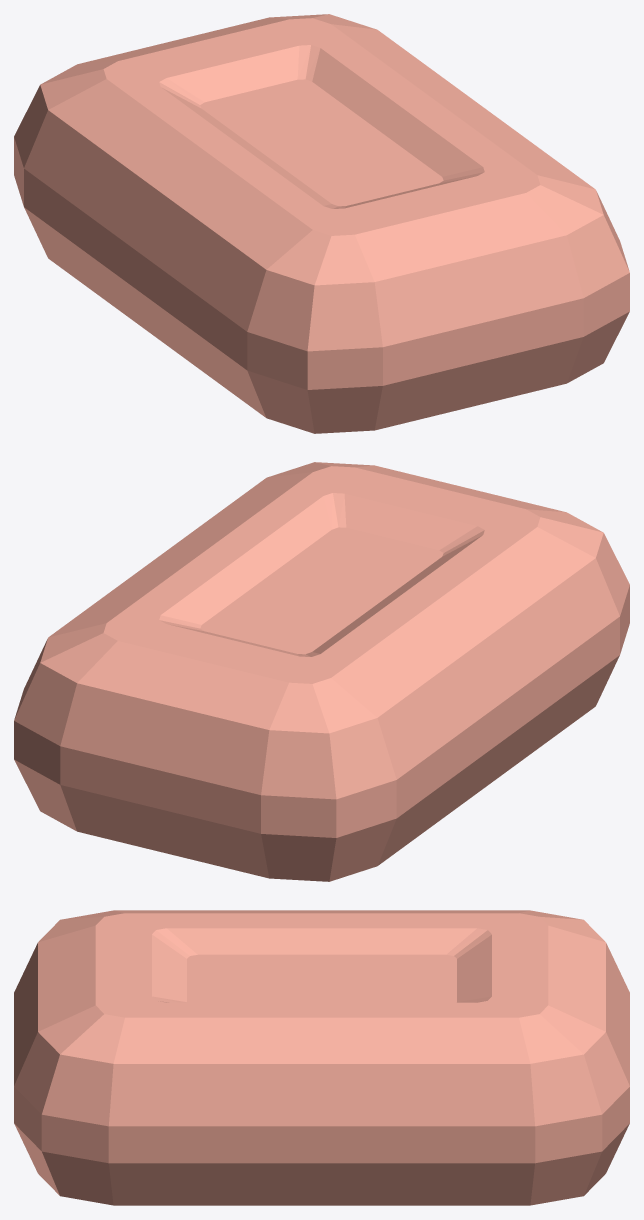
Rendered from soap.glb.
The picture shows the model from 3 angles, top to bottom: view 1: azimuth 30°, elevation 25°; view 2: azimuth 150°, elevation 25°; view 3: azimuth 270°, elevation 25°; orthographic projection. The views are drawn at different scales.
Visible parts, largest first — view 1: Soap; view 2: Soap; view 3: Soap.
Part boxes in pixels (box(x1,y1,x2,y2)): Soap: box(14, 14, 629, 433); Soap: box(14, 462, 629, 881); Soap: box(14, 910, 629, 1205).
Bounding box in the file's own units: 14.54 × 7.23 × 21.8.
Materials: 1 (1 with a texture image).
